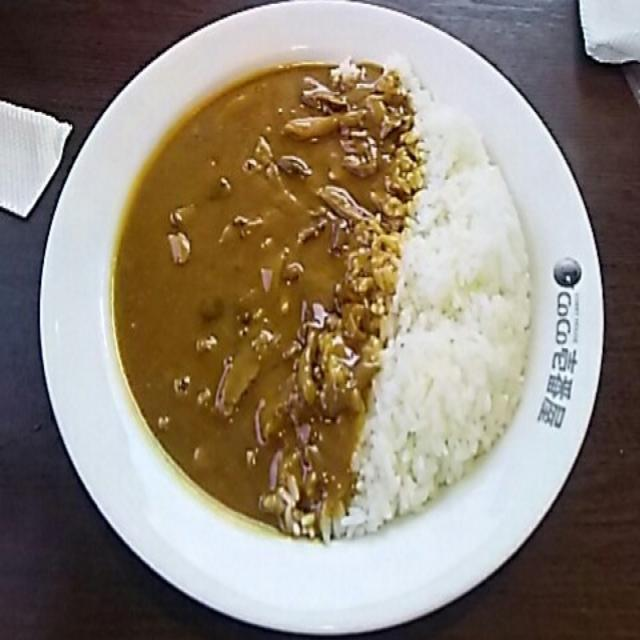Wet: (104, 56, 536, 546)
